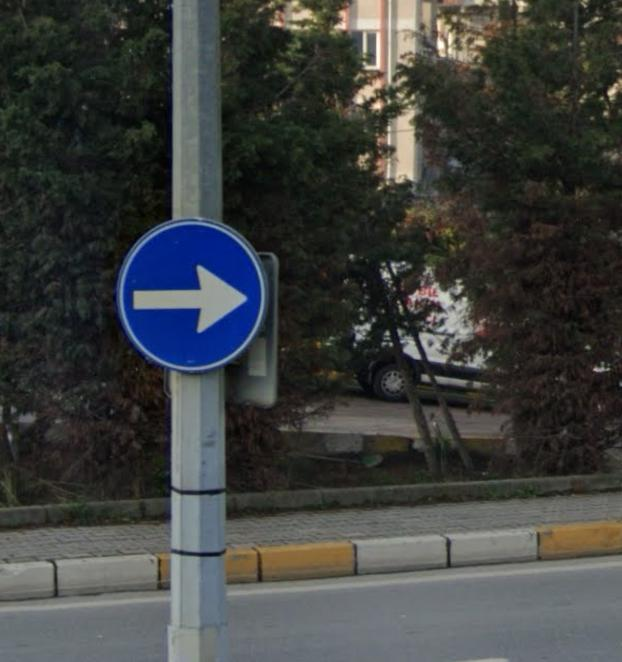turnright: (113, 219, 267, 373)
